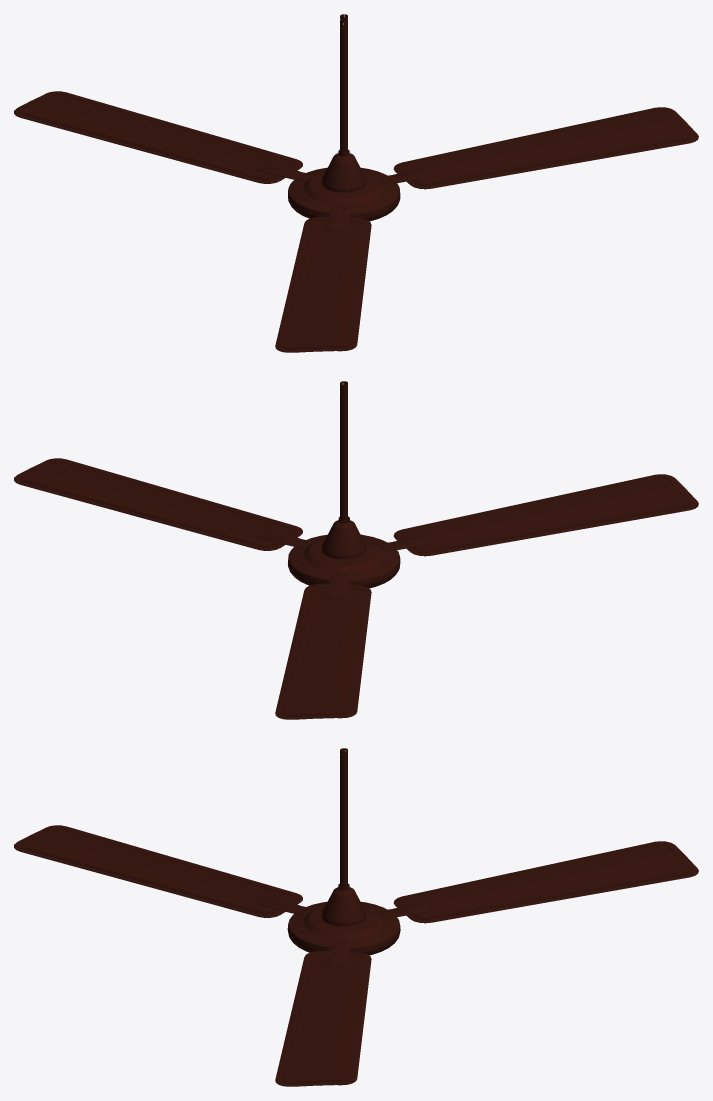
Rendered from fan.fbx.
The picture shows the model from 3 angles, top to bottom: view 1: azimuth 30°, elevation 25°; view 2: azimuth 150°, elevation 25°; view 3: azimuth 270°, elevation 25°; orthographic projection.
Visible parts, largest first — view 1: fan; view 2: fan; view 3: fan.
Part boxes in pixels (bbox=[...]): fan: bbox=[14, 14, 698, 352]; fan: bbox=[14, 381, 698, 719]; fan: bbox=[14, 748, 698, 1086].
Bounding box in the file's own units: 148 × 51.32 × 163.
